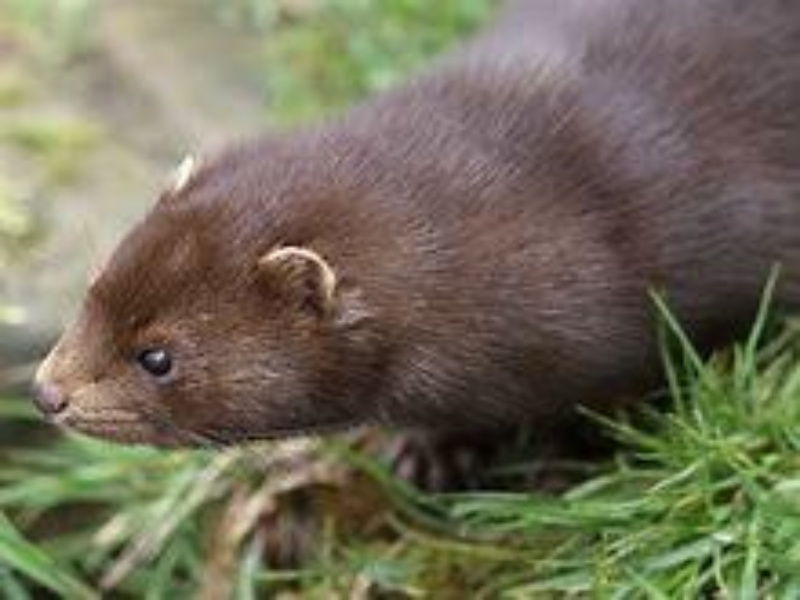minkish: (26, 8, 774, 454)
